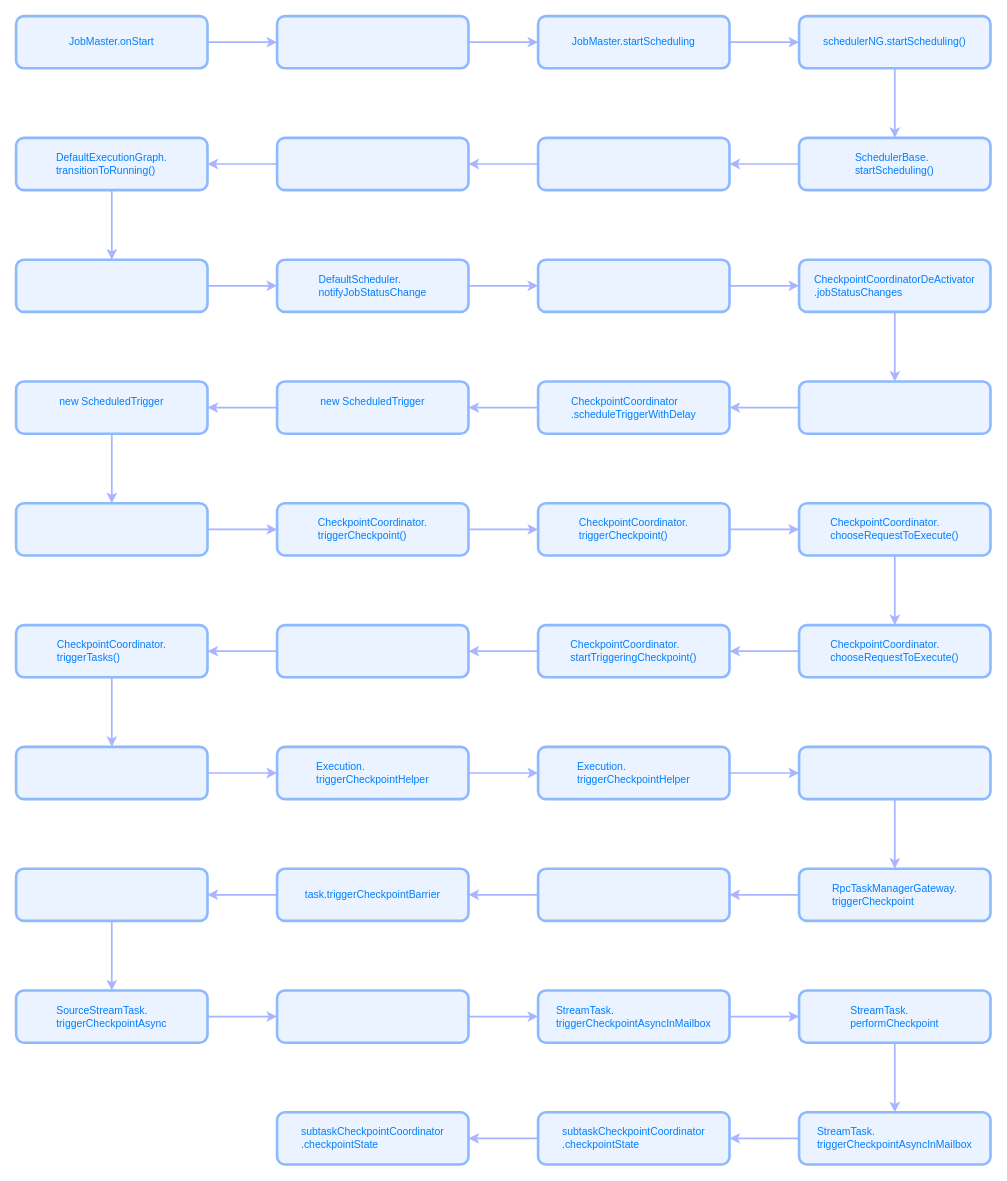
Image size: 1007x1181. Some labels were removed from this diagram. Here are the shapes that lost their labels. From the top down, the centre of each, then its label:
At (x=372, y=41): "JobMaster.startJobExecution".
At (x=372, y=163): "DefaultScheduler . transitionToRunning ()".
At (x=633, y=163): "SchedulerBase. startSchedulingInternal()".
At (x=111, y=285): "DefaultExecutionGraph . transitionState".
At (x=633, y=285): "listener.jobStatusChanges".
At (x=894, y=407): "CheckpointCoordinator startCheckpointScheduler".
At (x=111, y=529): "ScheduledTrigger.run".
At (x=372, y=650): "CheckpointCoordinator. triggerCheckpointRequest ()".
At (x=111, y=772): "execution. triggerSynchronousSavepoint/ 或者 execution.triggerCheckpoint".
At (x=894, y=772): "taskManagerGateway. triggerCheckpoint".
At (x=111, y=894): "invokable .triggerCheckpointAsync".
At (x=633, y=894): "TaskExecutor . triggerCheckpoint".
At (x=372, y=1016): "StreamTask . triggerCheckpointAsync".
